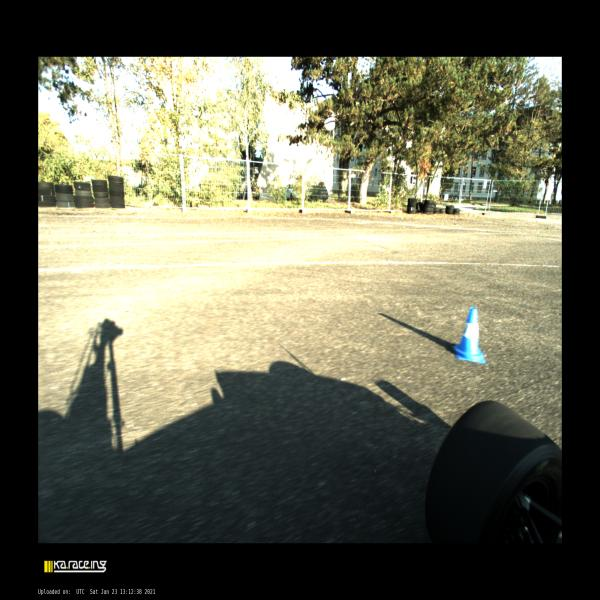blue_cone: (452, 308, 485, 363)
